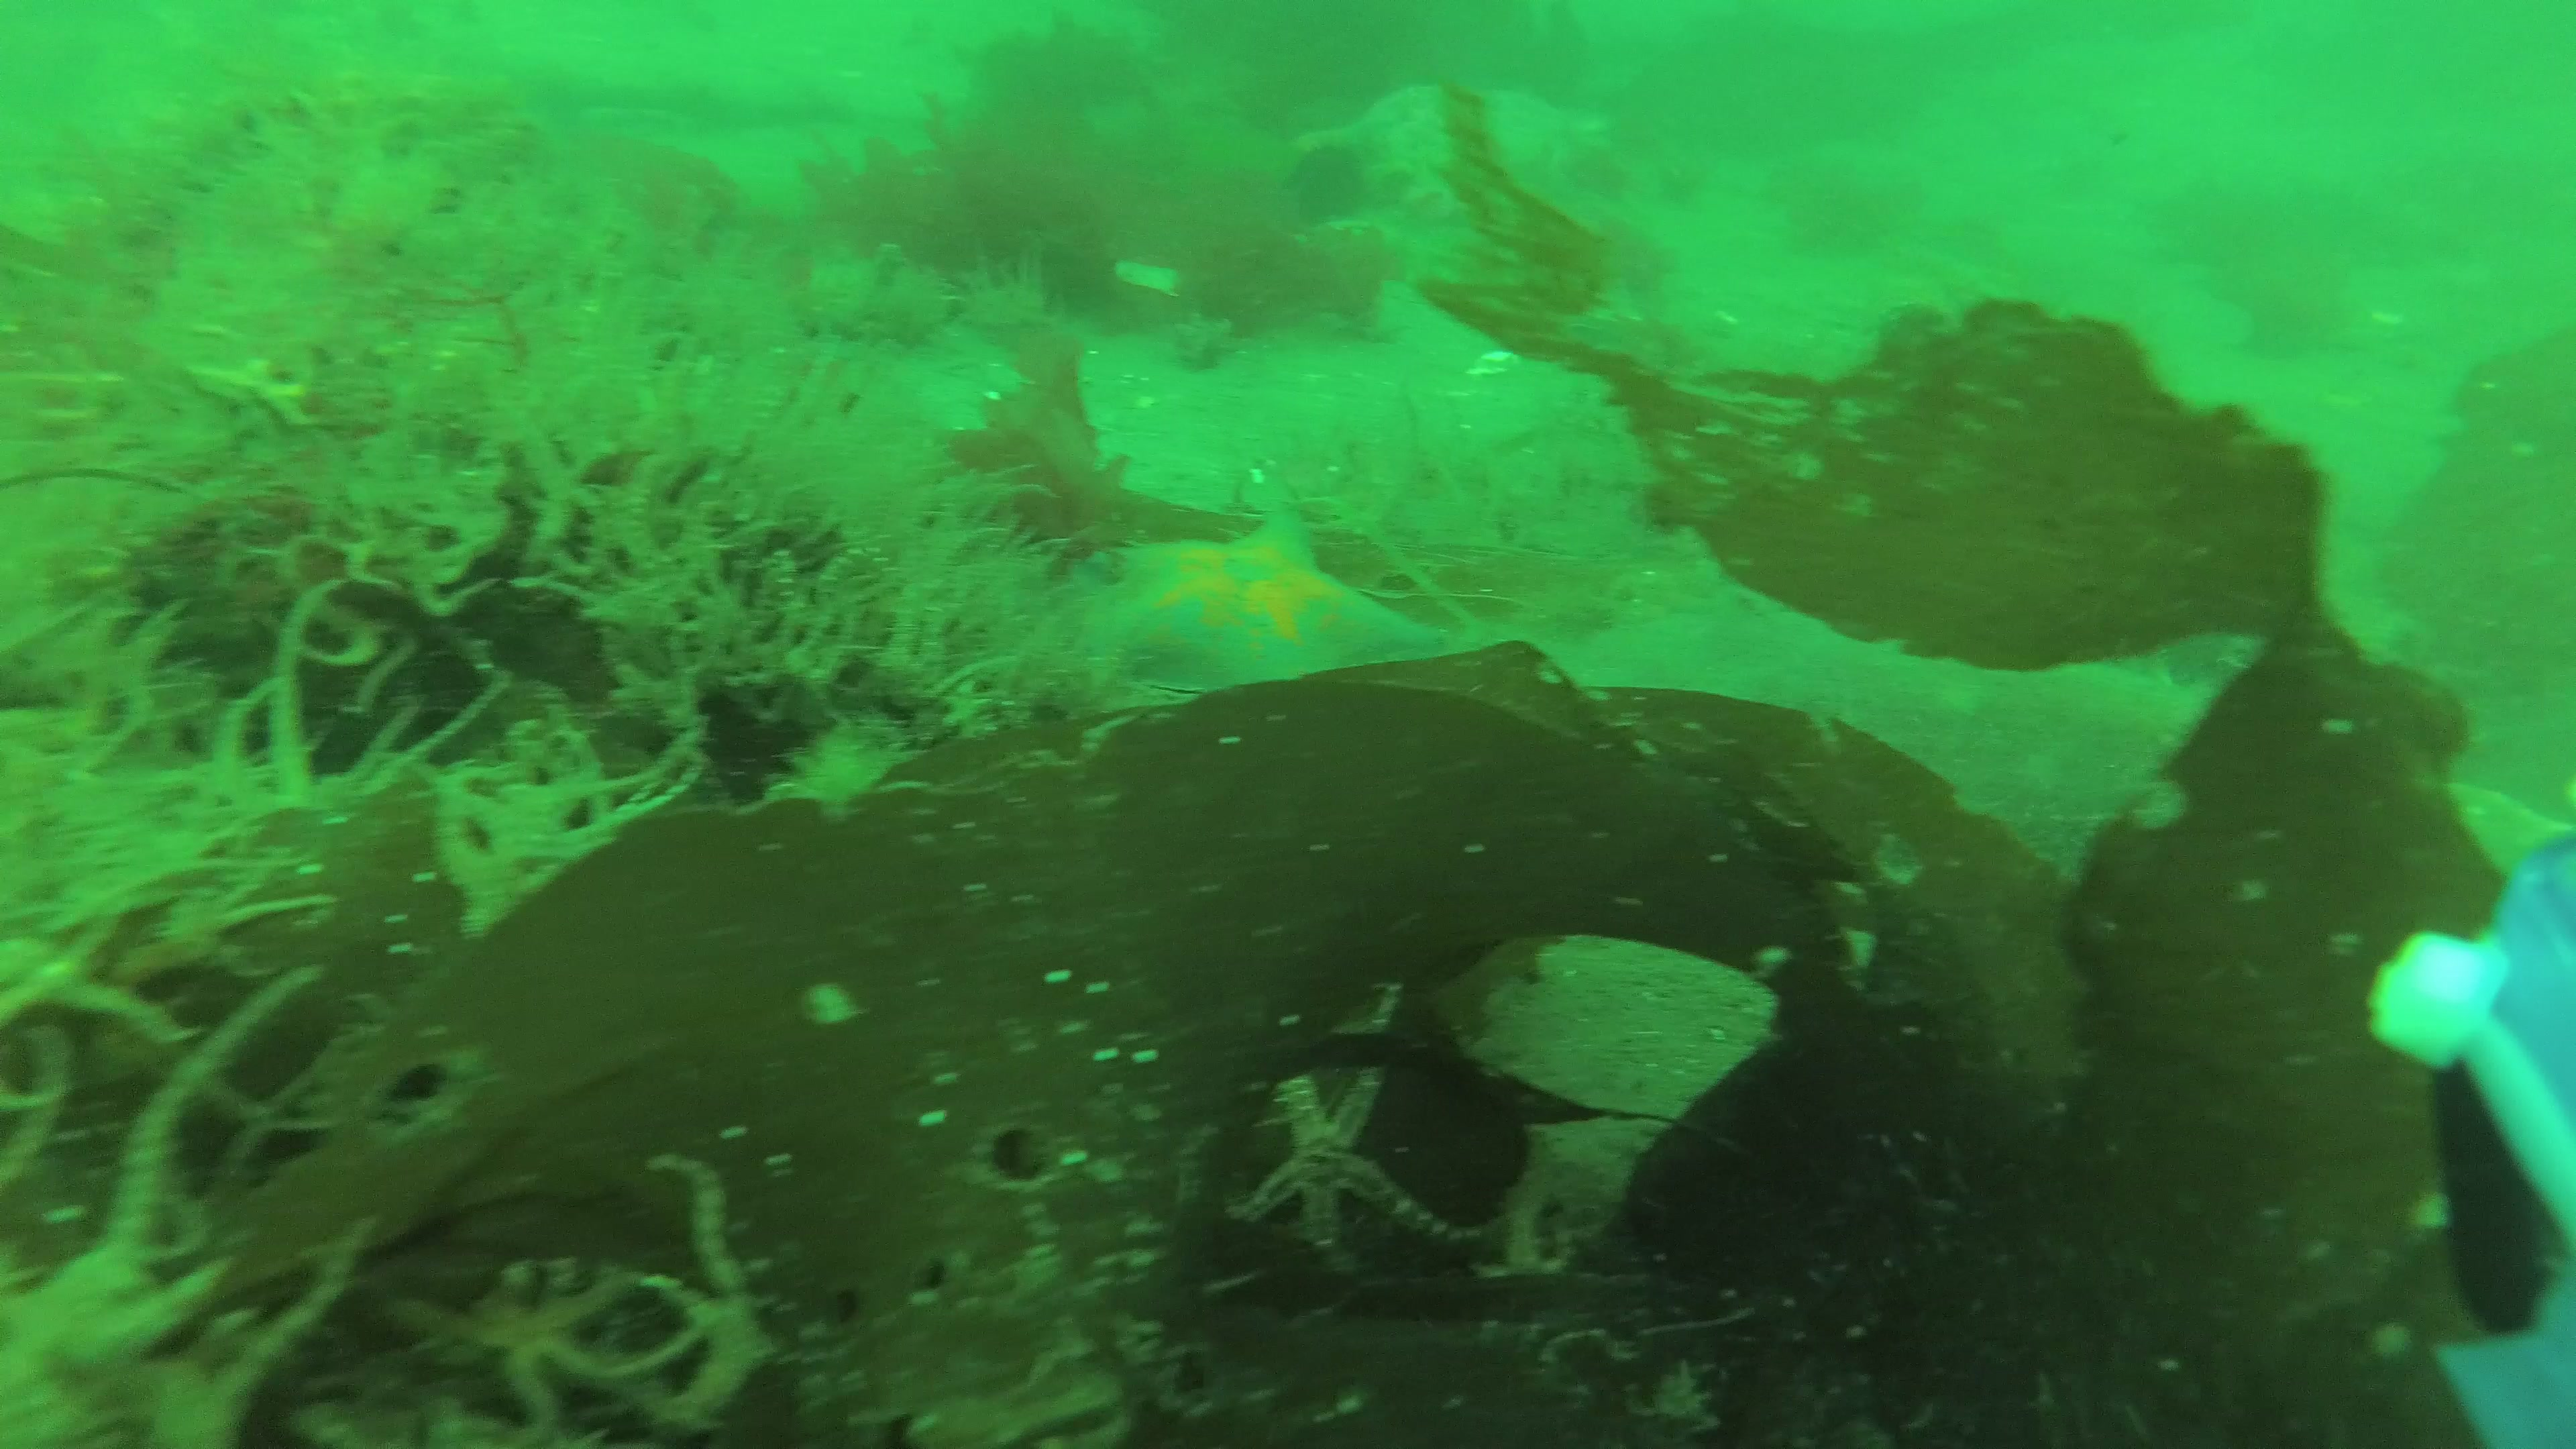starfish: (1076, 506, 1463, 706)
